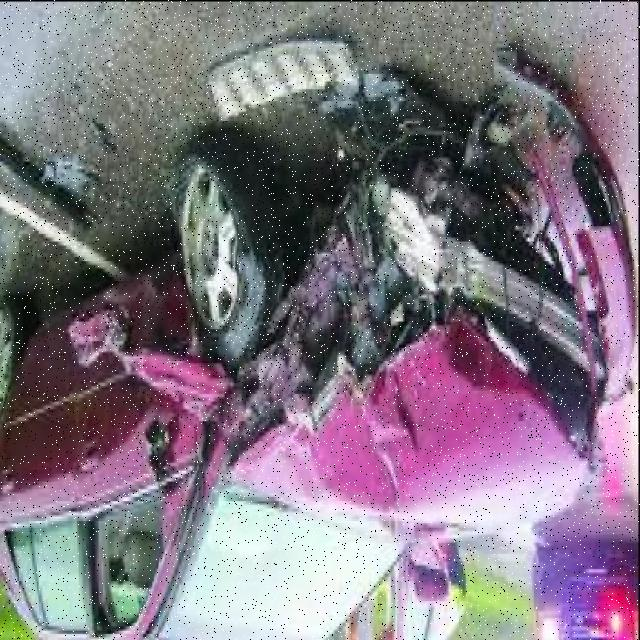damage: (68, 54, 640, 577)
